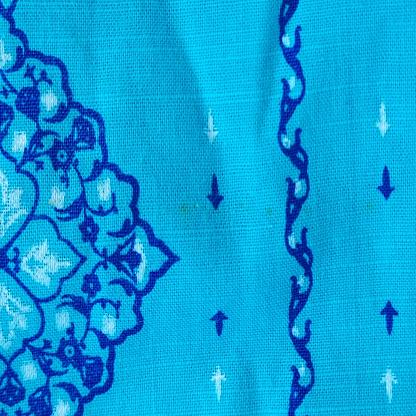spot: (175, 201, 205, 214), (366, 195, 374, 215), (266, 206, 275, 218), (49, 198, 59, 207), (238, 201, 244, 211)
